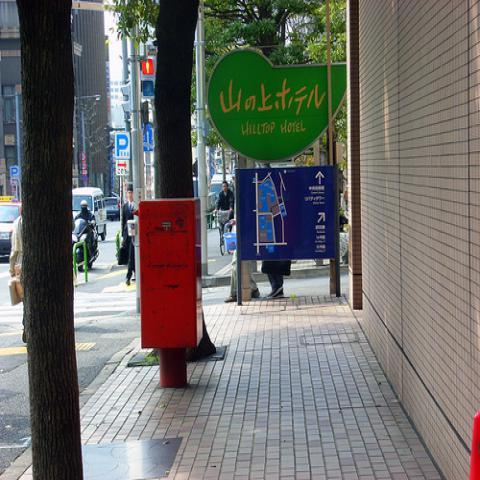car: (71, 186, 108, 242), (0, 202, 21, 255), (105, 195, 121, 221)
motorcycle: (73, 218, 101, 269)
truck: (72, 186, 107, 241)
